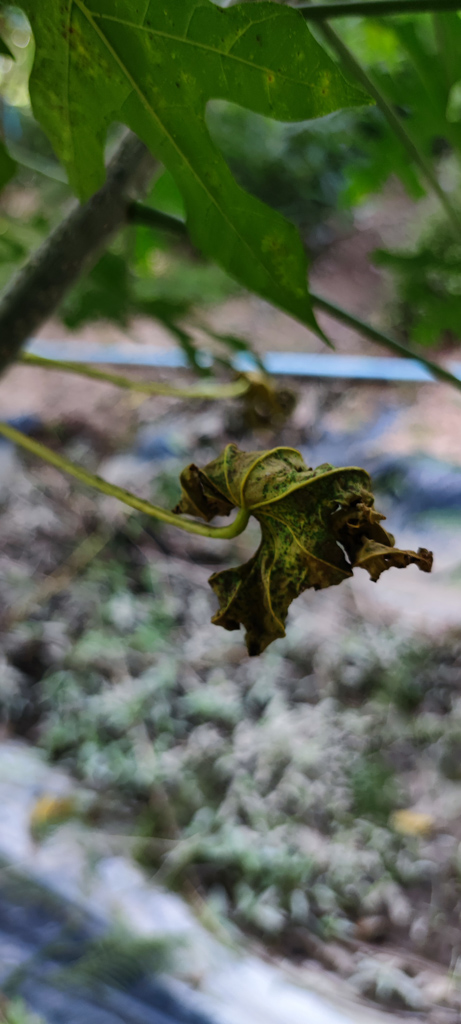Alternaria brassicicola: (156, 434, 438, 645)
